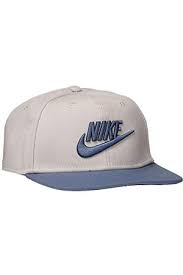nike: (75, 132, 138, 163)
